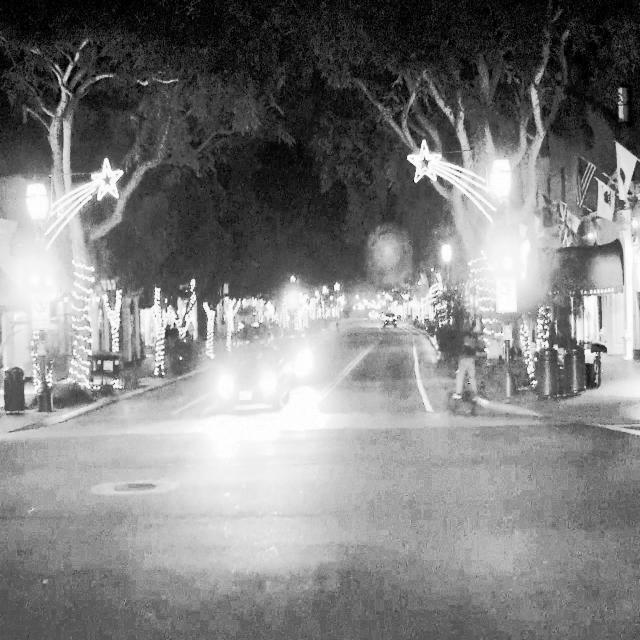Car: (218, 339, 288, 416)
Light: (502, 232, 513, 271), (30, 250, 40, 288)
